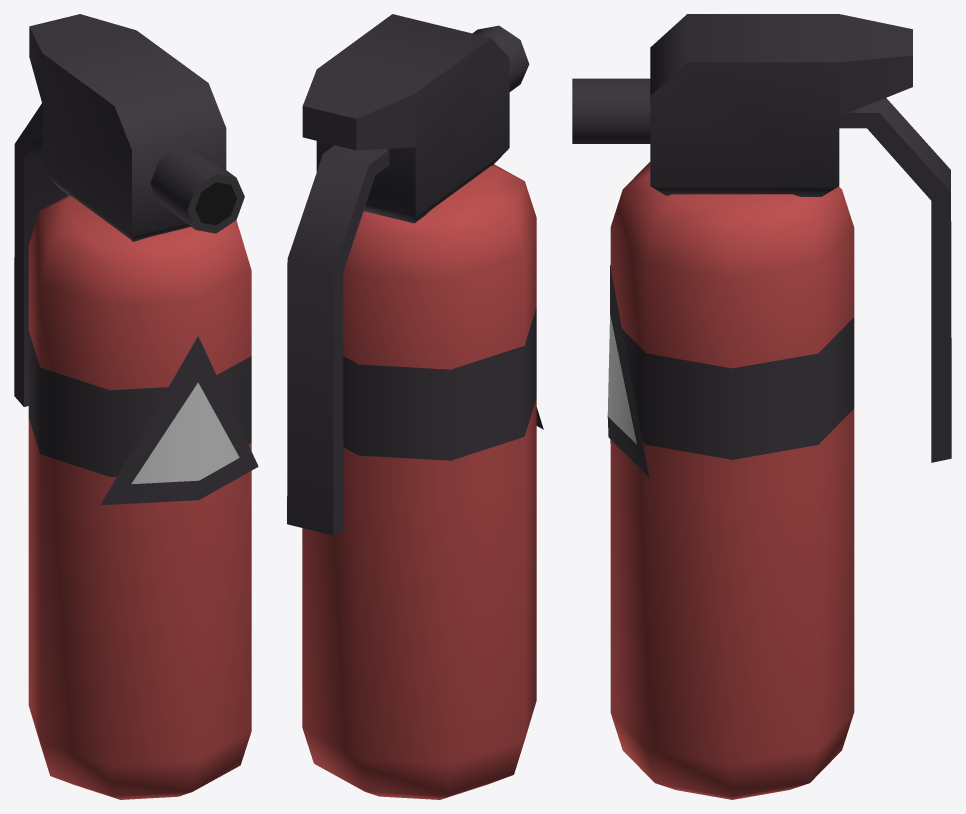
Rendered from pepperspray.fbx.
The picture shows the model from 3 angles, left to right: view 1: azimuth 30°, elevation 25°; view 2: azimuth 150°, elevation 25°; view 3: azimuth 270°, elevation 25°; orthographic projection. The views are drawn at different scales.
Visible parts, largest first — view 1: Pepperspray; view 2: Pepperspray; view 3: Pepperspray.
Boxes of the visible parts, <box> form: Pepperspray: <box>14,14,258,799</box>; Pepperspray: <box>287,14,543,799</box>; Pepperspray: <box>572,14,951,799</box>.
Bounding box in the file's own units: 0.0827 × 0.2727 × 0.1289.
